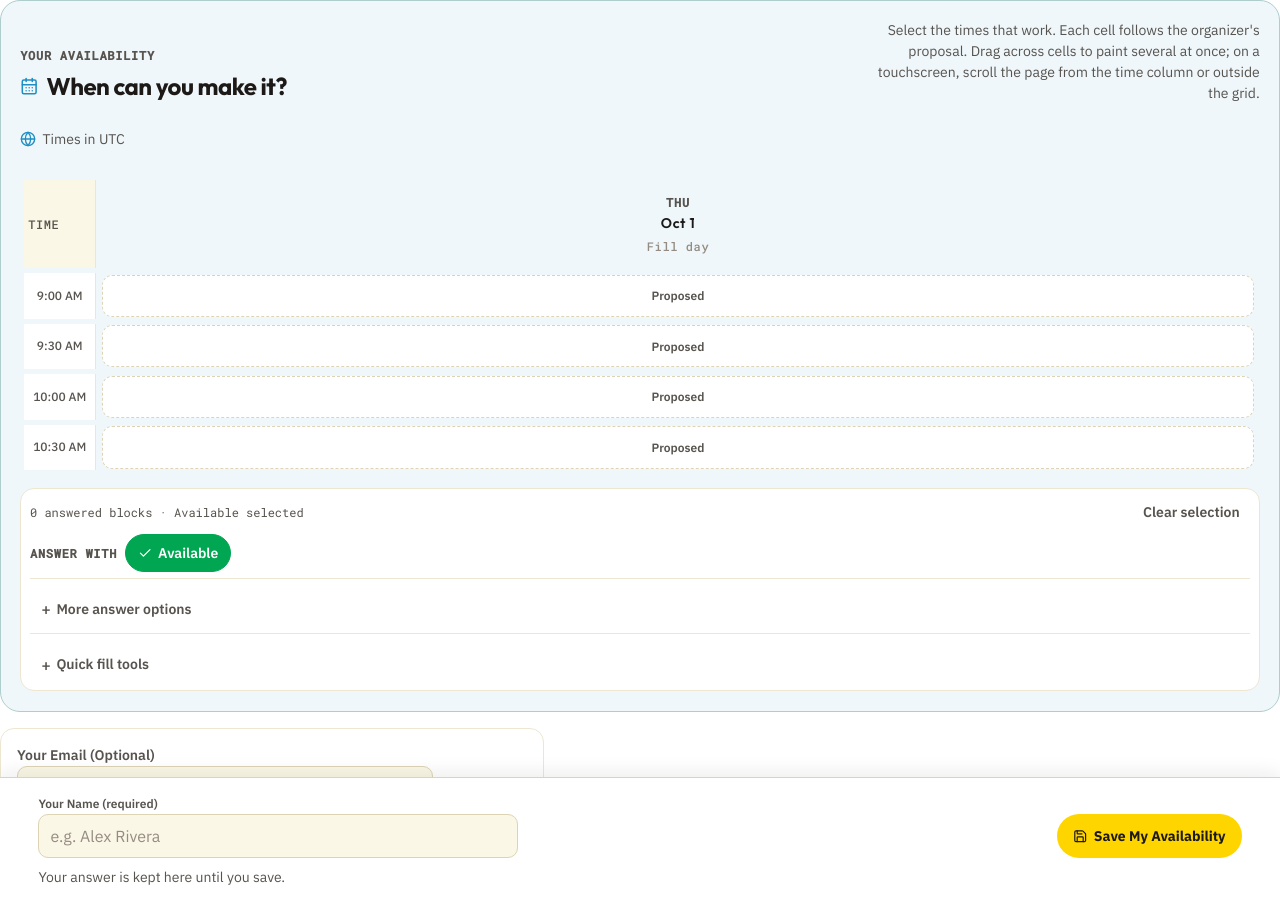
Test: AvailabilityPainter display interval › focuses the name field when save validation fails in the dock
Click the button "Save My Availability" at (1149, 836), box [1057,814,1242,858]
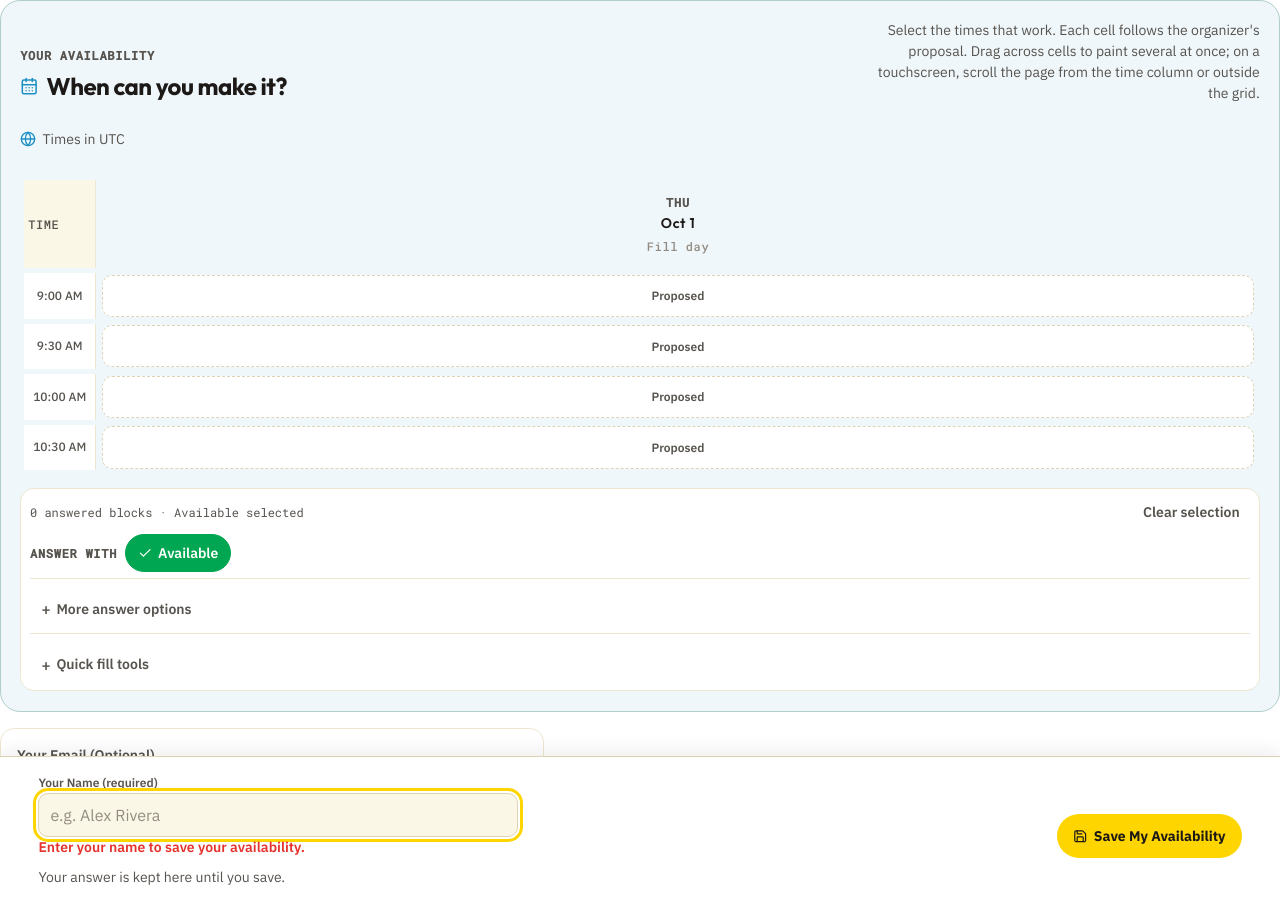
Check: the message "Enter your name to save your availability." is shown, box [38,838,305,856]
